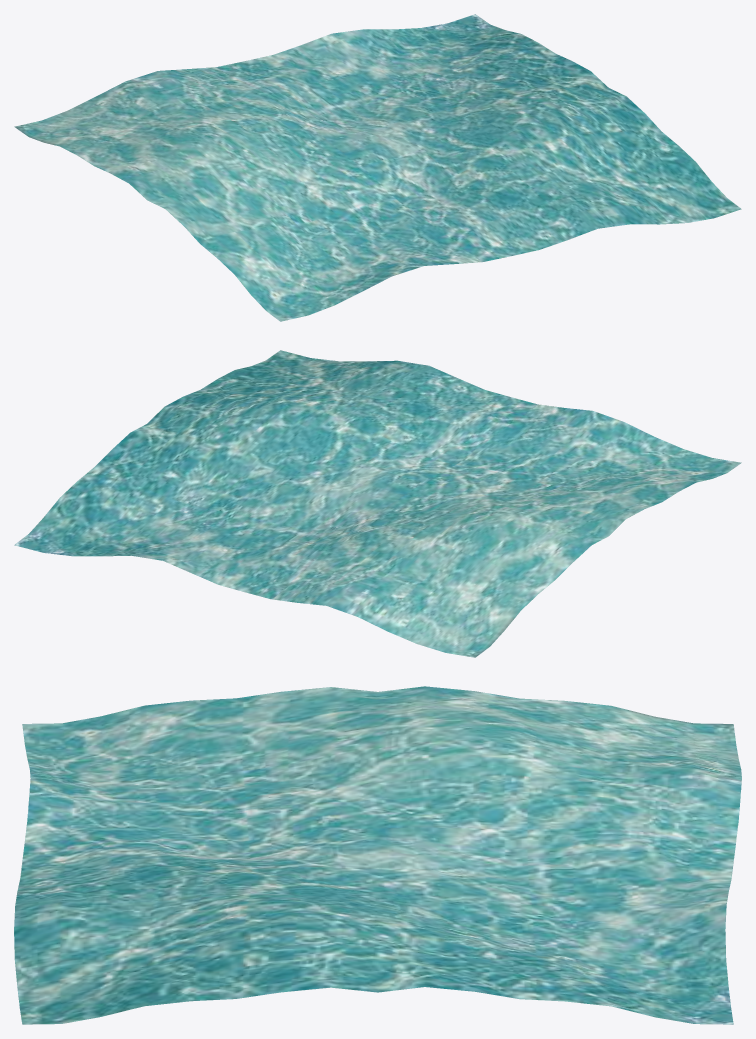
Rendered from water_000187.obj.
3 views of the same model, one above another, from view 1: azimuth 30°, elevation 25°; view 2: azimuth 150°, elevation 25°; view 3: azimuth 270°, elevation 25° (orthographic). The views are drawn at different scales.
Visible parts, largest first — view 1: Plan.003_Plan.001; view 2: Plan.003_Plan.001; view 3: Plan.003_Plan.001.
Part boxes in pixels (x1,y1,x2,y2): Plan.003_Plan.001: (14, 14, 741, 321); Plan.003_Plan.001: (14, 350, 741, 657); Plan.003_Plan.001: (14, 686, 741, 1024).
Size of the model in its own units: 60475 by 4808 by 61739.
1 material, 1 textured.
